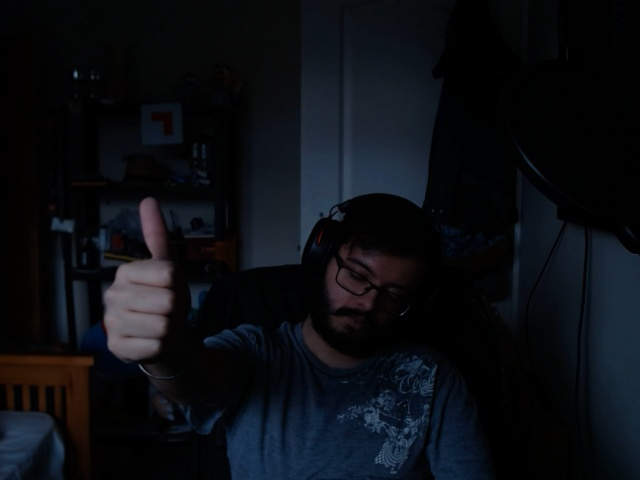Thumbs up: (89, 177, 193, 375)
